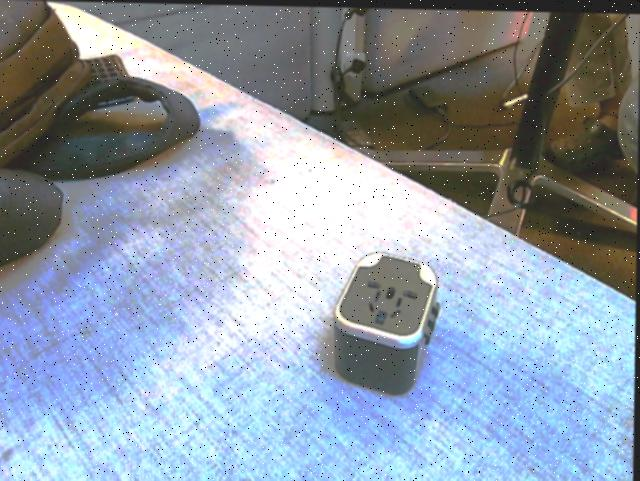adapter: (332, 247, 441, 394)
